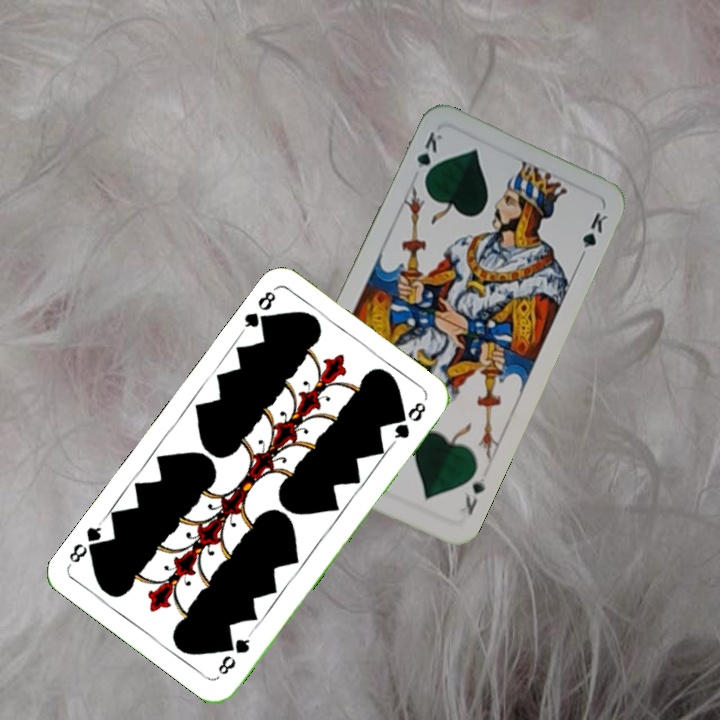G8: (237, 285, 279, 336), (213, 629, 254, 678)
GK: (412, 127, 445, 185), (455, 472, 488, 518)
